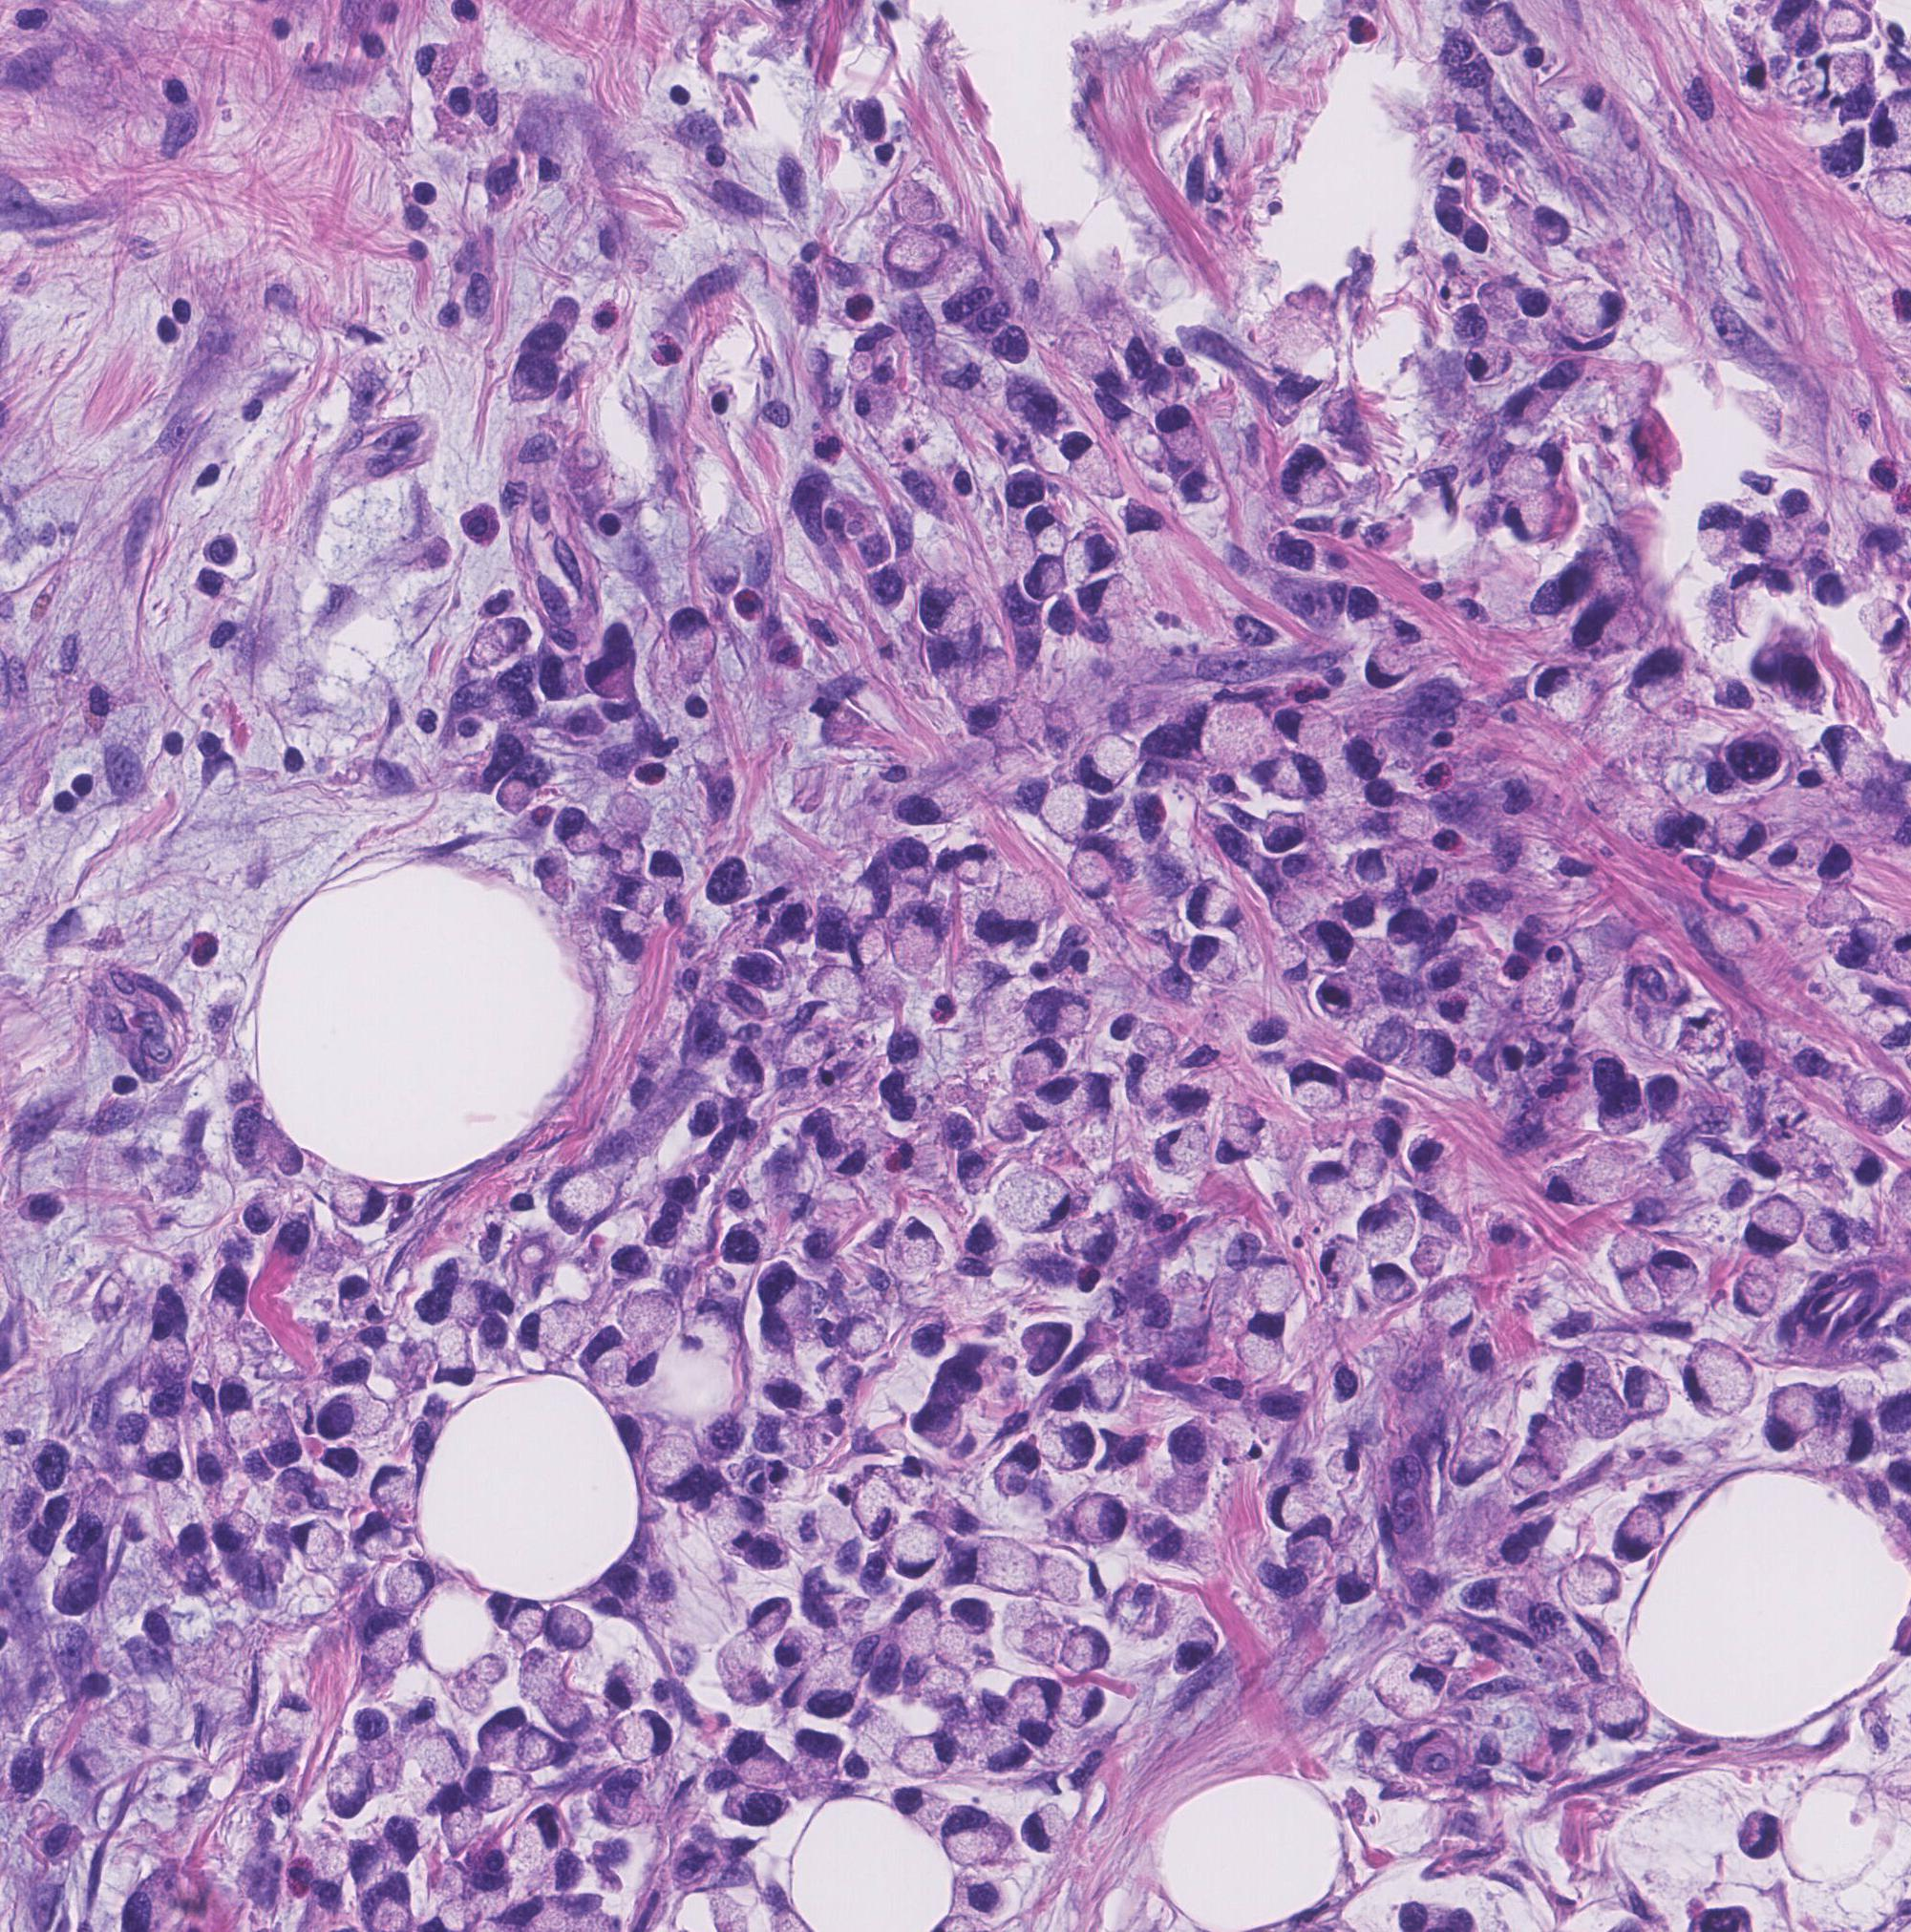ring_cell_cancer: (1199, 686, 1277, 772), (1682, 1335, 1757, 1417), (1610, 787, 1690, 859), (999, 1164, 1076, 1237), (889, 899, 955, 980), (621, 1293, 679, 1382), (1060, 327, 1130, 401), (724, 1727, 800, 1794), (1552, 1346, 1617, 1423), (1526, 941, 1584, 1027), (1571, 593, 1650, 654), (1766, 1377, 1825, 1458), (1272, 446, 1346, 511), (1062, 429, 1127, 502), (962, 1540, 1046, 1596), (1531, 660, 1603, 724), (1276, 702, 1354, 759), (1629, 653, 1697, 719), (882, 224, 947, 294), (644, 1435, 709, 1503), (789, 1727, 849, 1801), (1822, 728, 1888, 793), (947, 1808, 1015, 1871), (1041, 780, 1111, 842), (1591, 1676, 1657, 1739), (668, 604, 719, 684), (1078, 730, 1146, 789), (997, 873, 1060, 936), (1645, 1244, 1704, 1311), (1137, 1515, 1213, 1568), (1153, 402, 1213, 467), (1265, 749, 1332, 807), (551, 1169, 618, 1227), (1353, 1722, 1409, 1790), (1171, 1414, 1223, 1486), (759, 1260, 812, 1332), (1708, 905, 1773, 962), (1038, 1419, 1101, 1477), (1746, 1195, 1802, 1260), (1729, 737, 1796, 791), (1333, 1536, 1388, 1603), (140, 1416, 189, 1489), (975, 696, 1043, 749), (1570, 282, 1629, 341), (1748, 1125, 1808, 1185), (327, 1174, 390, 1230), (1743, 513, 1808, 567), (318, 1388, 383, 1442), (1699, 497, 1746, 570), (810, 961, 870, 1018), (1846, 1078, 1906, 1136), (436, 1787, 485, 1857), (721, 1647, 775, 1710), (1386, 1666, 1451, 1718), (325, 1753, 373, 1825), (1288, 1057, 1347, 1113), (1118, 1573, 1172, 1634), (359, 1608, 413, 1669), (1344, 843, 1407, 896), (640, 847, 693, 910), (899, 1580, 938, 1666), (415, 1286, 490, 1330), (1529, 1409, 1580, 1473), (724, 1783, 796, 1829), (854, 1479, 908, 1538), (1069, 842, 1122, 903), (1013, 1038, 1074, 1090), (971, 1720, 1032, 1773), (896, 1214, 947, 1277), (266, 1690, 317, 1753), (593, 1566, 656, 1617), (920, 586, 987, 633), (581, 1328, 628, 1395), (1466, 1573, 1538, 1617), (1503, 488, 1559, 544), (1620, 1363, 1676, 1419), (1022, 1801, 1078, 1857), (518, 1808, 574, 1864), (1452, 1426, 1510, 1480), (854, 1701, 908, 1759), (1307, 1160, 1360, 1220), (1363, 1197, 1416, 1256), (502, 350, 563, 401), (1403, 1029, 1465, 1080), (1239, 1311, 1284, 1379), (997, 1437, 1043, 1505), (889, 1524, 945, 1578), (415, 1727, 469, 1783), (1022, 1718, 1083, 1767), (612, 1711, 674, 1760), (1788, 644, 1832, 712), (1029, 990, 1092, 1038), (592, 651, 646, 705), (1615, 1507, 1669, 1561), (600, 1774, 654, 1829), (1062, 1624, 1118, 1676), (1073, 1498, 1132, 1547), (896, 1734, 957, 1781), (1158, 1123, 1213, 1176), (1570, 1552, 1622, 1606), (467, 1764, 527, 1811), (516, 1311, 583, 1353), (1836, 51, 1881, 112), (485, 1706, 530, 1767), (901, 789, 980, 824), (1361, 635, 1416, 686), (1424, 1283, 1479, 1333), (257, 1412, 308, 1466), (892, 175, 948, 224), (1256, 1258, 1305, 1314), (812, 1666, 861, 1722), (1508, 444, 1566, 492), (730, 948, 787, 996), (724, 1045, 770, 1104), (1064, 534, 1125, 577), (289, 1517, 343, 1566), (1717, 815, 1773, 863), (551, 805, 607, 852), (1515, 203, 1573, 249), (962, 885, 1008, 943), (1319, 969, 1370, 1020), (1809, 1207, 1860, 1258), (352, 1510, 402, 1561), (1829, 1416, 1878, 1468), (838, 1311, 887, 1363), (1417, 1627, 1479, 1669), (1645, 1080, 1699, 1127), (385, 1563, 441, 1608), (541, 1692, 597, 1738), (437, 1323, 478, 1386), (1176, 1617, 1220, 1675), (891, 1787, 948, 1830), (534, 843, 572, 908), (826, 705, 877, 754), (1832, 926, 1885, 973), (1314, 1235, 1367, 1283), (1263, 1482, 1318, 1528), (324, 1447, 369, 1501), (1059, 1676, 1104, 1731), (924, 1654, 969, 1708), (856, 371, 899, 427), (1118, 1059, 1174, 1102), (607, 870, 665, 912), (1370, 1260, 1419, 1309), (1290, 1524, 1339, 1573), (1286, 842, 1333, 892), (1732, 1270, 1783, 1318), (514, 1648, 562, 1699), (955, 1151, 1008, 1197), (1010, 1675, 1062, 1720), (1480, 276, 1529, 324), (604, 796, 653, 843), (1424, 954, 1487, 990), (810, 1116, 859, 1164), (1074, 1073, 1120, 1123), (1480, 5, 1524, 58), (990, 1094, 1034, 1146), (1823, 2, 1878, 44), (1409, 849, 1449, 905), (1351, 1134, 1391, 1190), (1022, 507, 1069, 555), (479, 612, 525, 661), (336, 1272, 381, 1321), (217, 1267, 255, 1325), (338, 1844, 395, 1883), (1024, 555, 1074, 598), (1190, 880, 1241, 924), (1407, 1132, 1451, 1183), (1498, 1038, 1538, 1092), (1743, 1811, 1783, 1865), (1344, 1057, 1382, 1113), (1190, 931, 1235, 978), (369, 1463, 416, 1508), (72, 1750, 119, 1795), (1465, 341, 1515, 383), (1781, 485, 1823, 535), (1549, 1160, 1591, 1211), (602, 1664, 644, 1715), (1846, 1143, 1892, 1188), (1088, 1361, 1134, 1407), (217, 1512, 262, 1557), (1494, 775, 1542, 819), (1603, 1087, 1645, 1136), (241, 1188, 283, 1237), (747, 1538, 803, 1575), (917, 1405, 969, 1444), (509, 1596, 549, 1645), (1274, 936, 1312, 987), (726, 1225, 772, 1267), (892, 1454, 934, 1500), (775, 1631, 822, 1671), (1155, 1475, 1209, 1510), (548, 1610, 593, 1650), (1220, 1122, 1260, 1165), (1818, 840, 1862, 880), (497, 770, 535, 815), (854, 926, 892, 971), (1330, 1447, 1368, 1489), (954, 1594, 996, 1633), (850, 332, 892, 369), (1265, 808, 1302, 850), (616, 1244, 653, 1286), (1186, 469, 1227, 506), (749, 1599, 791, 1634), (819, 906, 849, 954), (957, 849, 999, 882)
